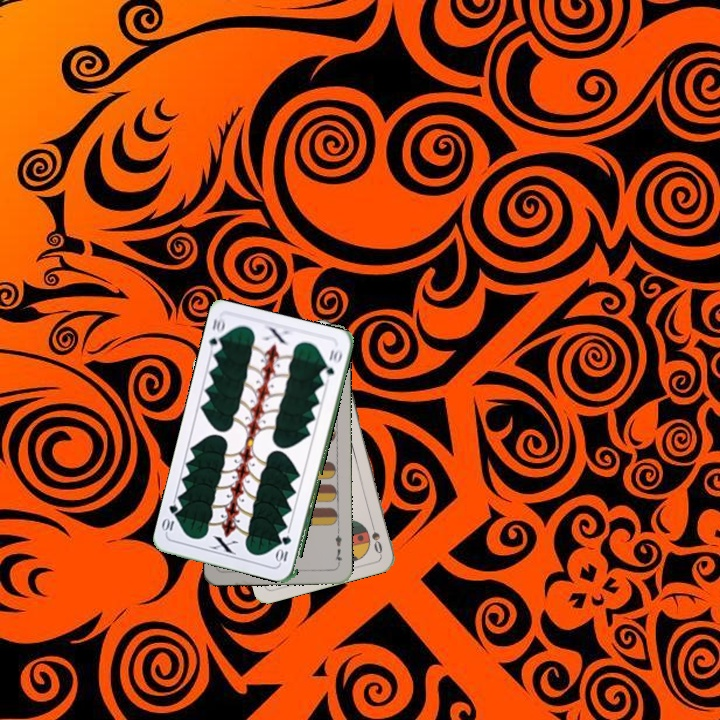E7: (331, 527, 345, 568)
G10: (205, 314, 228, 355), (275, 532, 294, 566)
SO: (367, 517, 385, 557)
